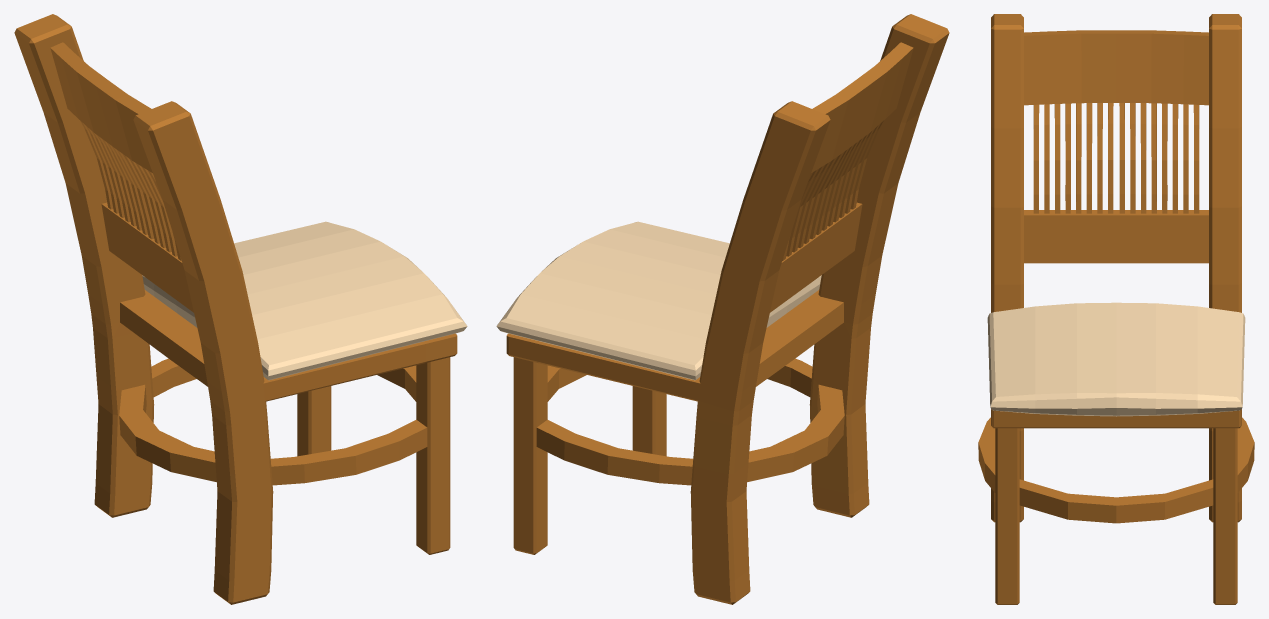
File: chair.fbx
3 views of the same model, side by side, from view 1: azimuth 30°, elevation 25°; view 2: azimuth 150°, elevation 25°; view 3: azimuth 270°, elevation 25° (orthographic). The views are drawn at different scales.
Parts seen in each view (by area): view 1: Cadeira, Cadeira Det; view 2: Cadeira, Cadeira Det; view 3: Cadeira, Cadeira Det.
Part boxes in pixels (box(x1,y1,x2,y2)): Cadeira: box(14, 14, 457, 604); Cadeira Det: box(142, 221, 467, 380); Cadeira: box(506, 14, 949, 604); Cadeira Det: box(496, 221, 821, 380); Cadeira: box(978, 14, 1254, 604); Cadeira Det: box(987, 302, 1245, 416).
Size of the model in its own units: 566 by 796 by 431.
2 materials, 2 textured.
